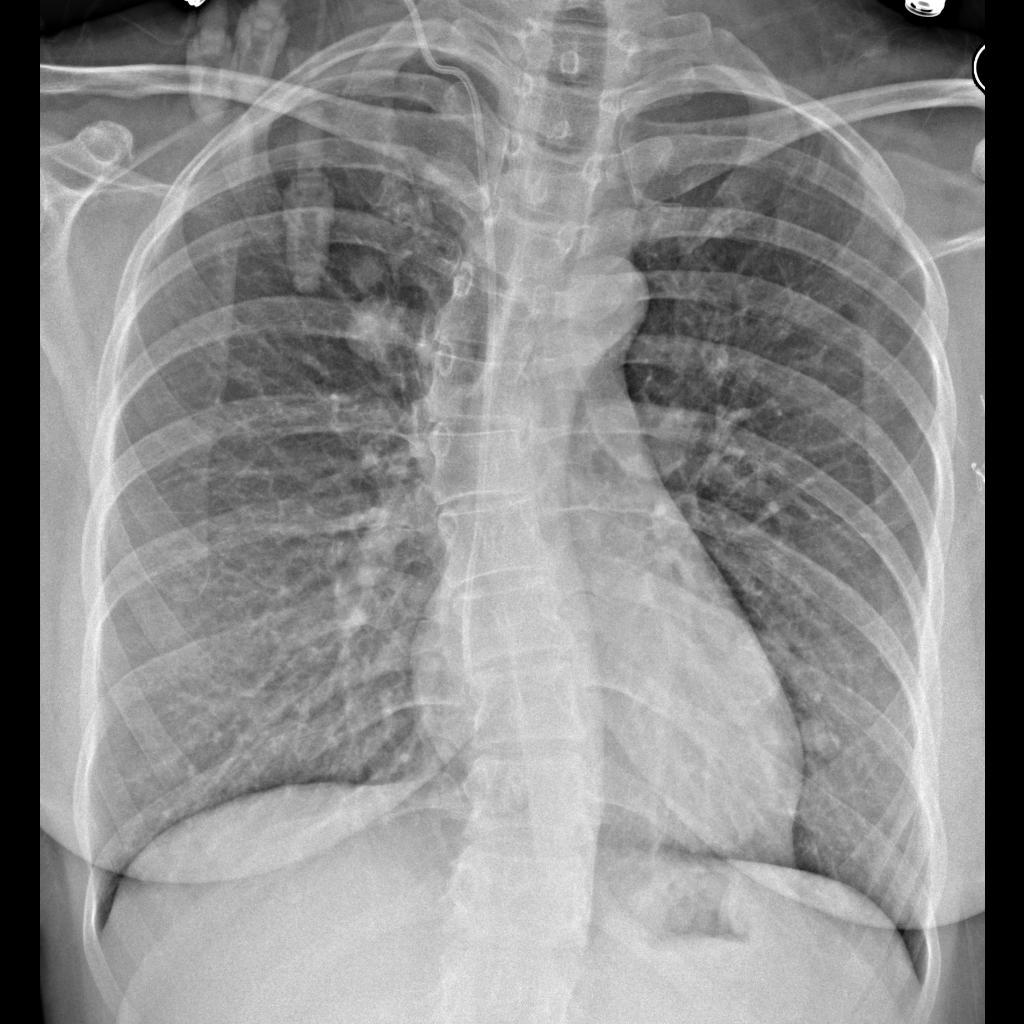Nodule: (336, 298, 426, 382), (788, 702, 850, 763), (342, 248, 394, 290)
